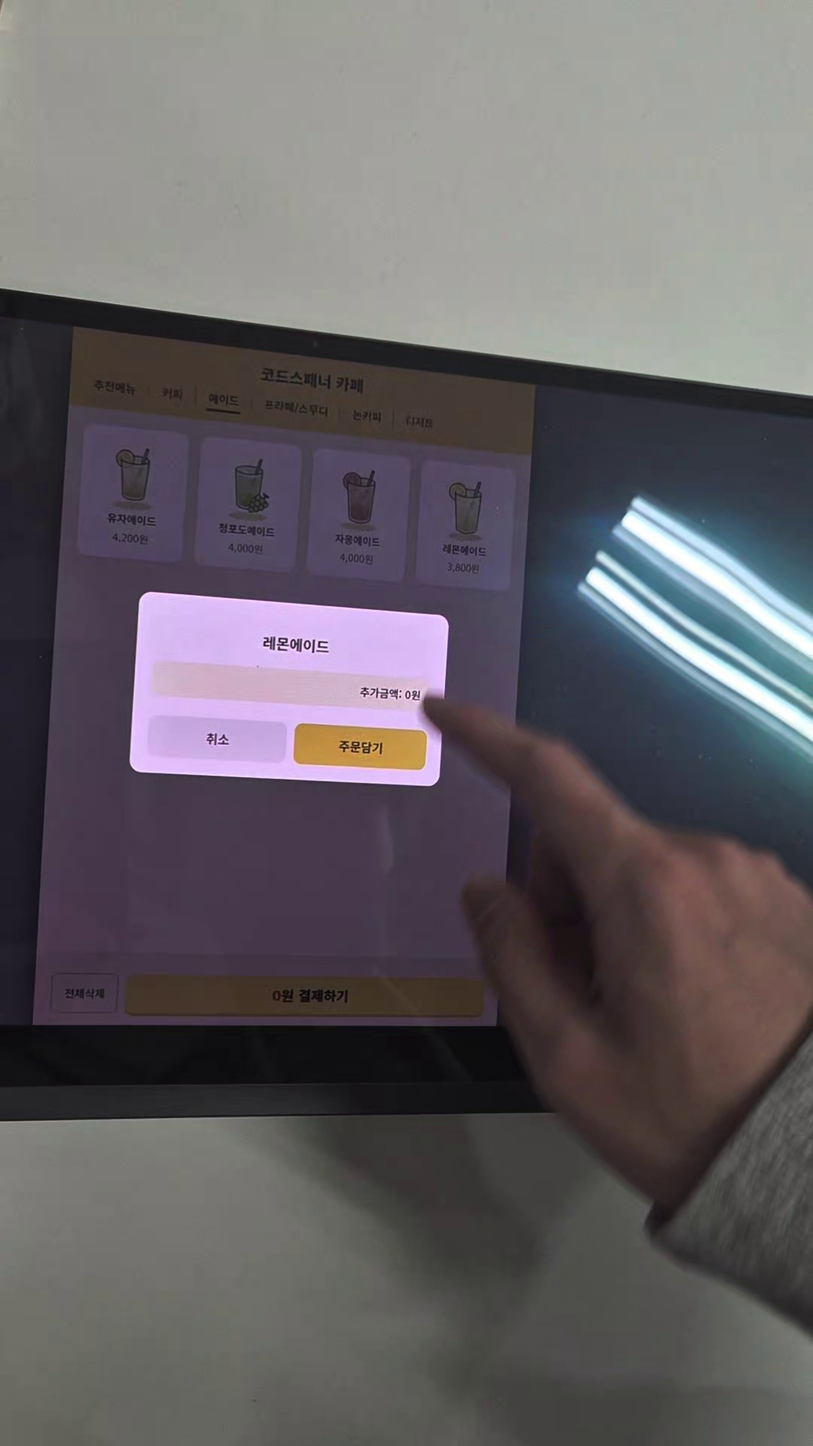action_button: (126, 973, 485, 1017), (146, 715, 287, 764), (293, 722, 428, 770), (50, 973, 119, 1013)
category_tab: (264, 399, 329, 419), (93, 378, 137, 398), (207, 391, 240, 409), (352, 408, 382, 424), (405, 415, 434, 430), (161, 386, 184, 402)
menu_back: (75, 423, 191, 565), (192, 436, 304, 573), (306, 447, 412, 584), (414, 460, 519, 593)
menu_name: (217, 521, 276, 539), (105, 510, 157, 528), (334, 531, 381, 550), (442, 542, 488, 558)
menu_price: (111, 531, 149, 547), (227, 541, 264, 557), (338, 552, 374, 568), (447, 561, 481, 575)
popup_modal: (128, 591, 449, 787)
